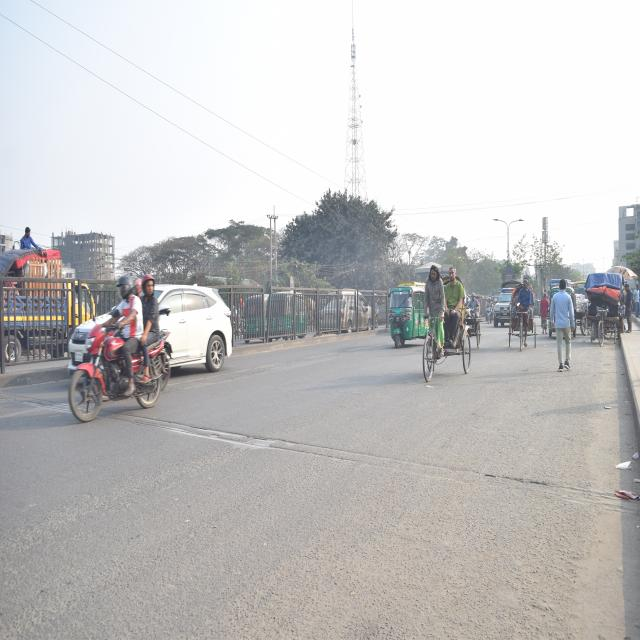car: (123, 277, 240, 375)
motorbike: (65, 317, 175, 423), (483, 301, 493, 325)
pickup-van: (493, 279, 516, 326)
